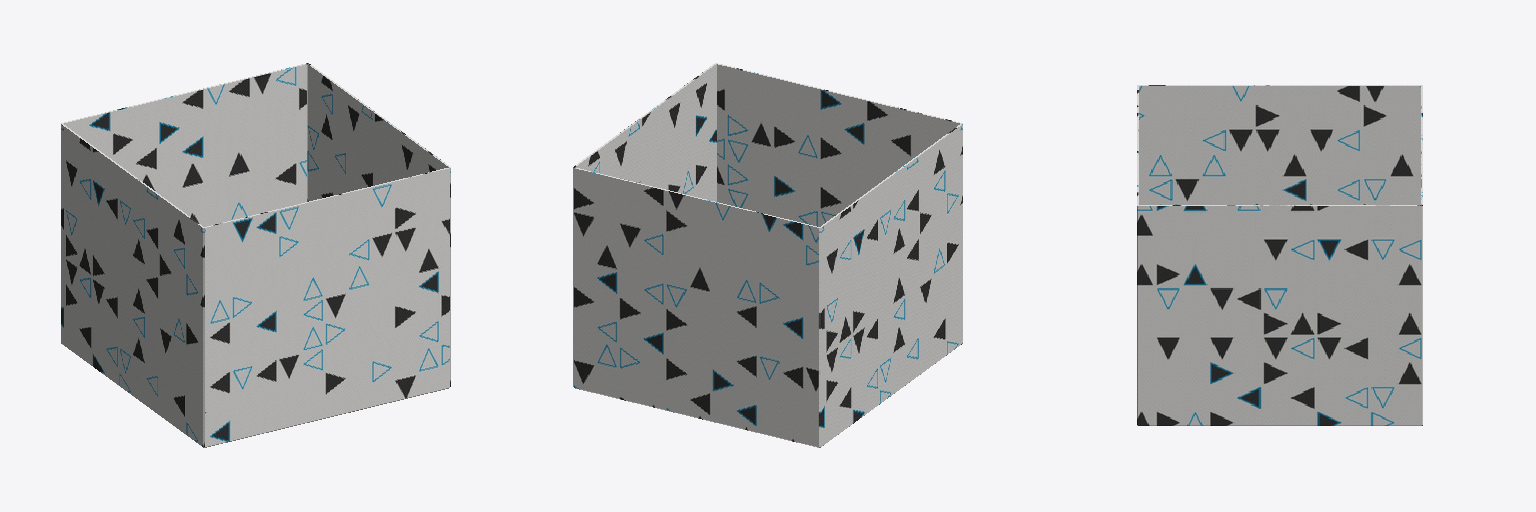
3 views of the same model, side by side, from view 1: azimuth 30°, elevation 25°; view 2: azimuth 150°, elevation 25°; view 3: azimuth 270°, elevation 25° (orthographic).
Parts seen in each view (by area): view 1: defaultMaterial.004_defaultMaterial.005; view 2: defaultMaterial.004_defaultMaterial.005; view 3: defaultMaterial.004_defaultMaterial.005.
Part boxes in pixels (x1,y1,x2,y2): defaultMaterial.004_defaultMaterial.005: (61,63,450,447); defaultMaterial.004_defaultMaterial.005: (573,63,962,447); defaultMaterial.004_defaultMaterial.005: (1137,85,1422,425).
Bounding box in the file's own units: 1.83 × 1.56 × 1.83.
Materials: 1 (1 with a texture image).